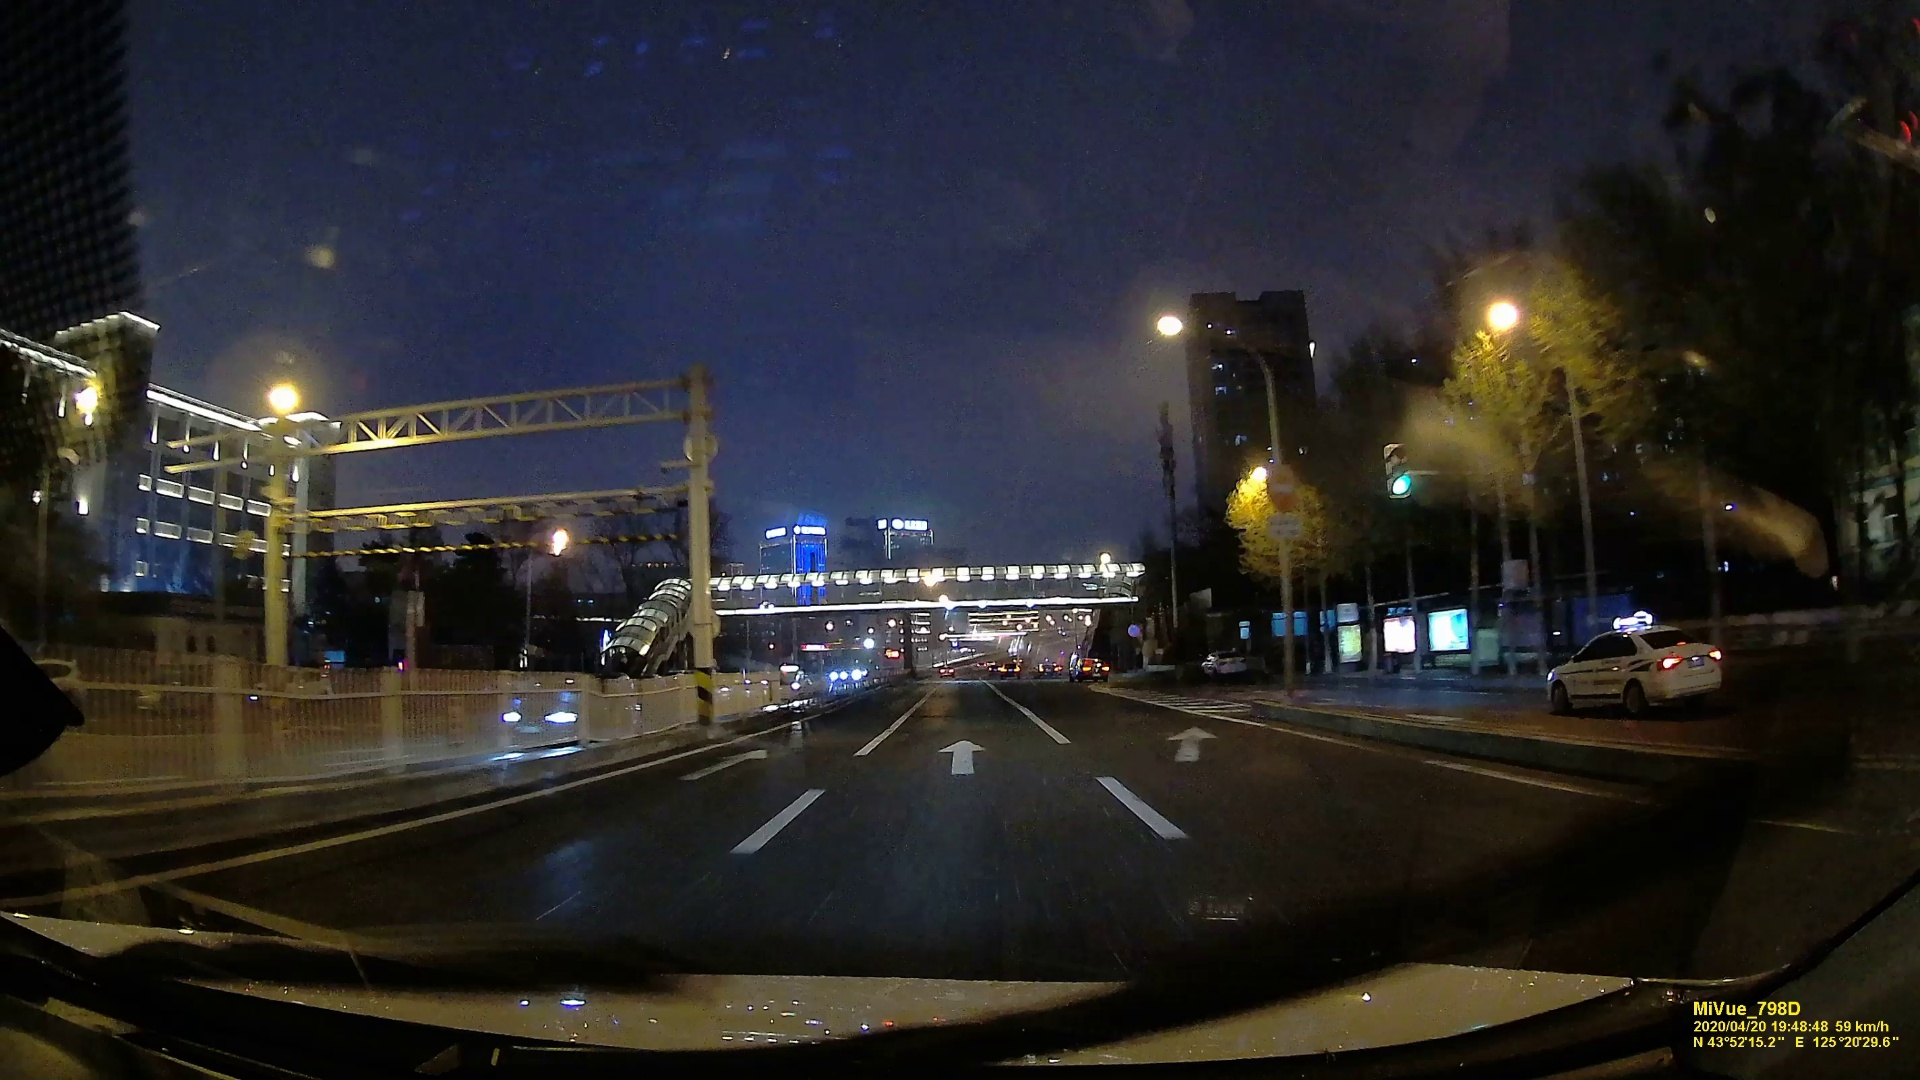traffic_sign: (1385, 444, 1408, 497)
vehicle: (1544, 624, 1727, 716), (498, 673, 634, 742), (1067, 659, 1109, 680)
